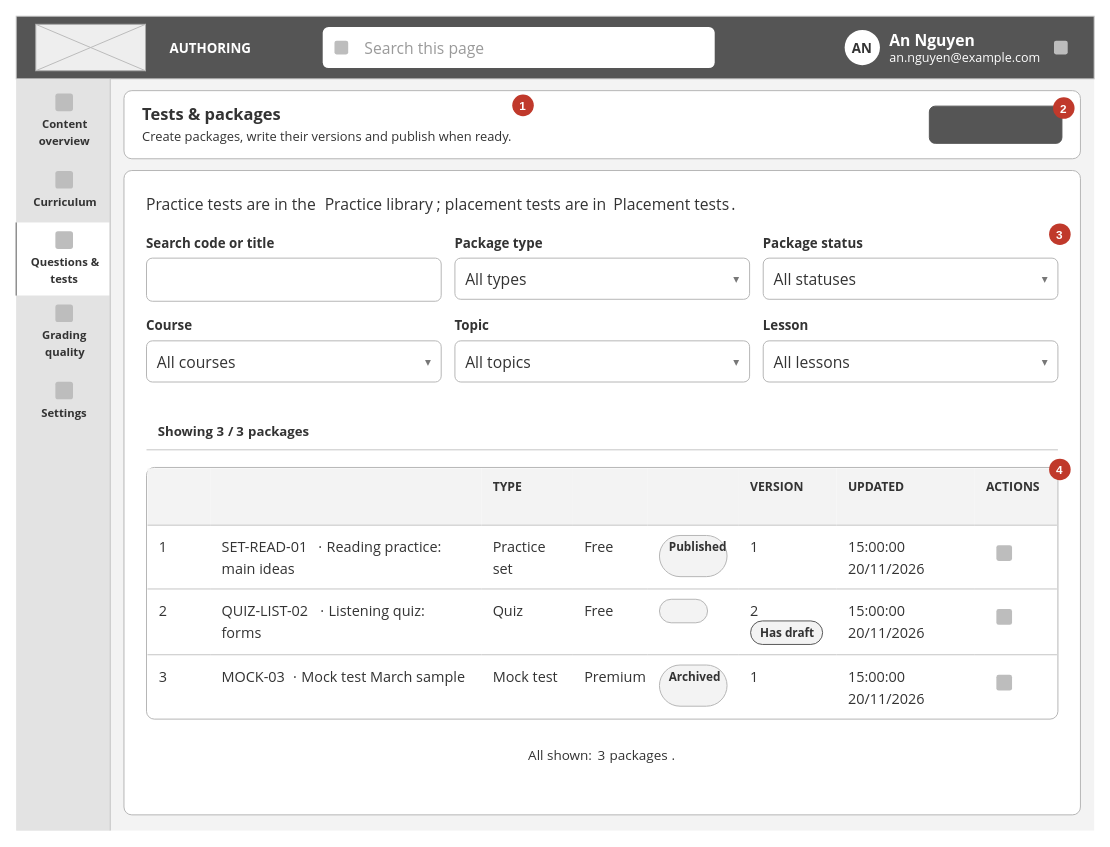
Image size: 1110x847. Some labels were removed from this diagram. Here are the shapes that lost their labels. From the top down, the centre of each, then its label:
At [995,124]: "New package".
At [178,496]: "NO.".
At [345,496]: "CODE AND TITLE".
At [609,496]: "ACCESS".
At [692,496]: "STATUS".
At [683,610]: "Draft".
